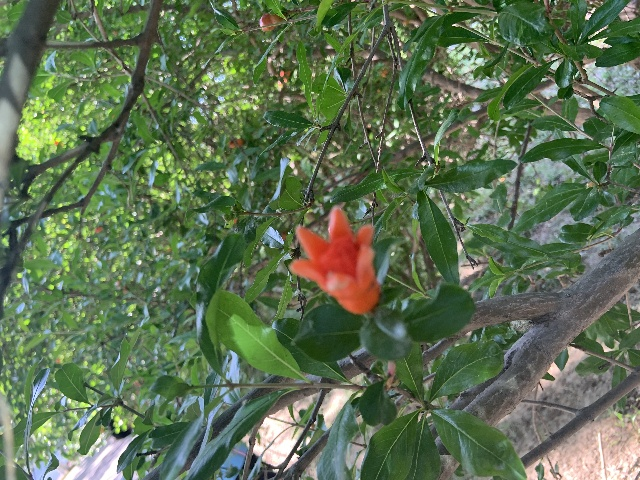bud: (260, 13, 284, 30)
flower: (289, 207, 380, 315)
